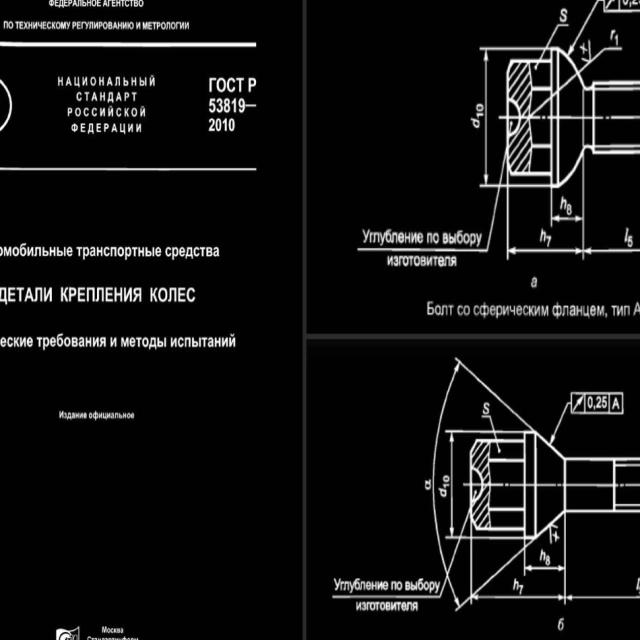marking_line: (431, 356, 470, 613), (435, 540, 537, 612), (439, 357, 534, 430), (562, 516, 640, 604), (468, 541, 569, 607), (503, 188, 588, 261), (579, 165, 640, 264), (477, 45, 505, 194), (566, 0, 640, 52), (443, 429, 469, 541), (523, 540, 571, 577), (581, 29, 623, 71), (541, 9, 585, 46), (549, 190, 587, 227), (550, 400, 571, 444), (573, 394, 584, 411)
numeric: (558, 6, 568, 23), (216, 76, 226, 92), (208, 97, 217, 114), (207, 77, 217, 92), (248, 77, 257, 92), (236, 77, 244, 93), (227, 78, 236, 92), (223, 98, 231, 113), (216, 98, 223, 113), (239, 98, 246, 113), (557, 618, 565, 631), (578, 43, 587, 54), (229, 118, 236, 132), (208, 118, 215, 132), (215, 116, 221, 132), (545, 235, 553, 247), (607, 28, 615, 40), (222, 117, 228, 132), (475, 102, 484, 112), (231, 97, 236, 114), (587, 396, 593, 409), (553, 530, 559, 543), (596, 396, 602, 408), (474, 112, 486, 118), (442, 474, 450, 483), (567, 203, 572, 217), (518, 584, 524, 595), (602, 395, 607, 408), (627, 235, 632, 247), (615, 34, 620, 46), (546, 554, 550, 567), (442, 484, 450, 489), (620, 0, 628, 3)
